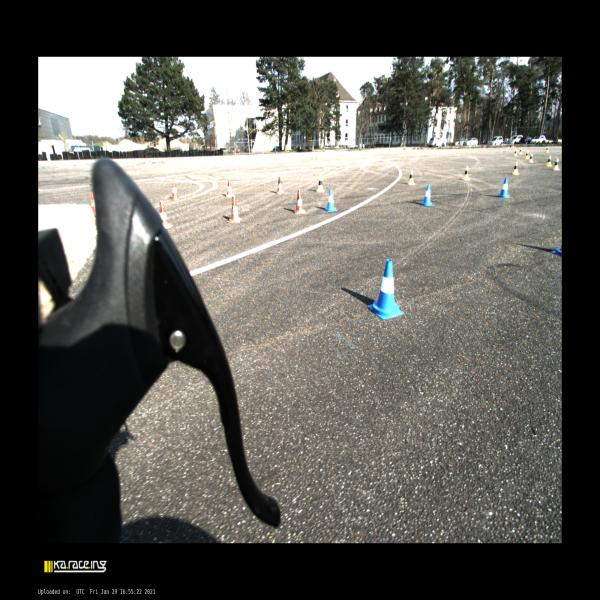blue_cone: (368, 260, 403, 320), (420, 184, 434, 206), (325, 189, 337, 212), (497, 177, 509, 198)
orange_cone: (160, 201, 173, 230), (228, 195, 241, 223), (295, 189, 306, 214), (171, 182, 180, 200), (226, 178, 234, 197), (91, 192, 97, 216), (276, 176, 284, 194)
yellow_cone: (316, 174, 325, 192), (407, 169, 416, 185), (511, 161, 520, 175), (462, 166, 470, 181), (552, 158, 560, 170), (546, 155, 552, 167), (528, 153, 534, 163), (524, 150, 530, 160), (514, 149, 518, 157), (545, 146, 549, 152), (518, 148, 522, 154)
